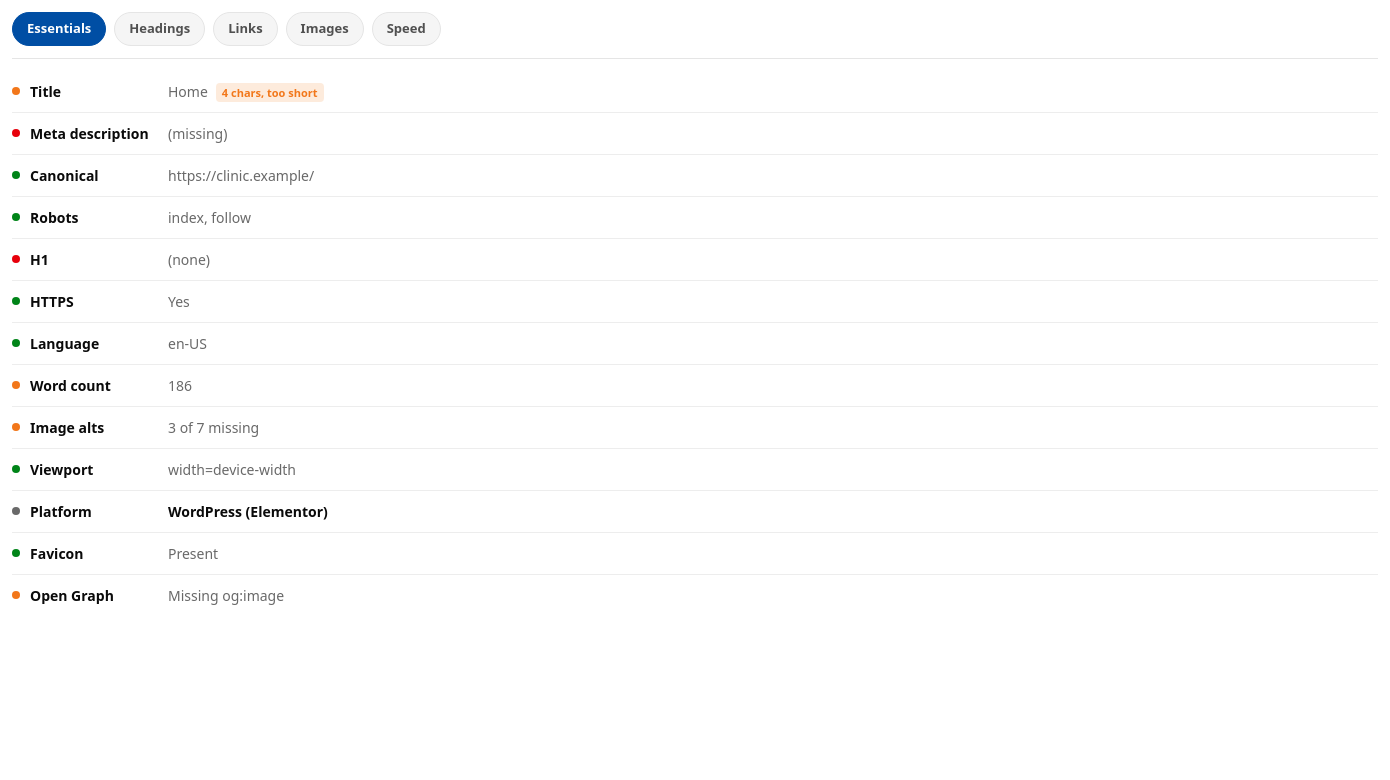
it: On-Page speed › shows scores and plain-language vitals, and handles missing values
The image size is (1390, 780).
Click the button "Speed" at x=406, y=29, box [372,12,441,46]
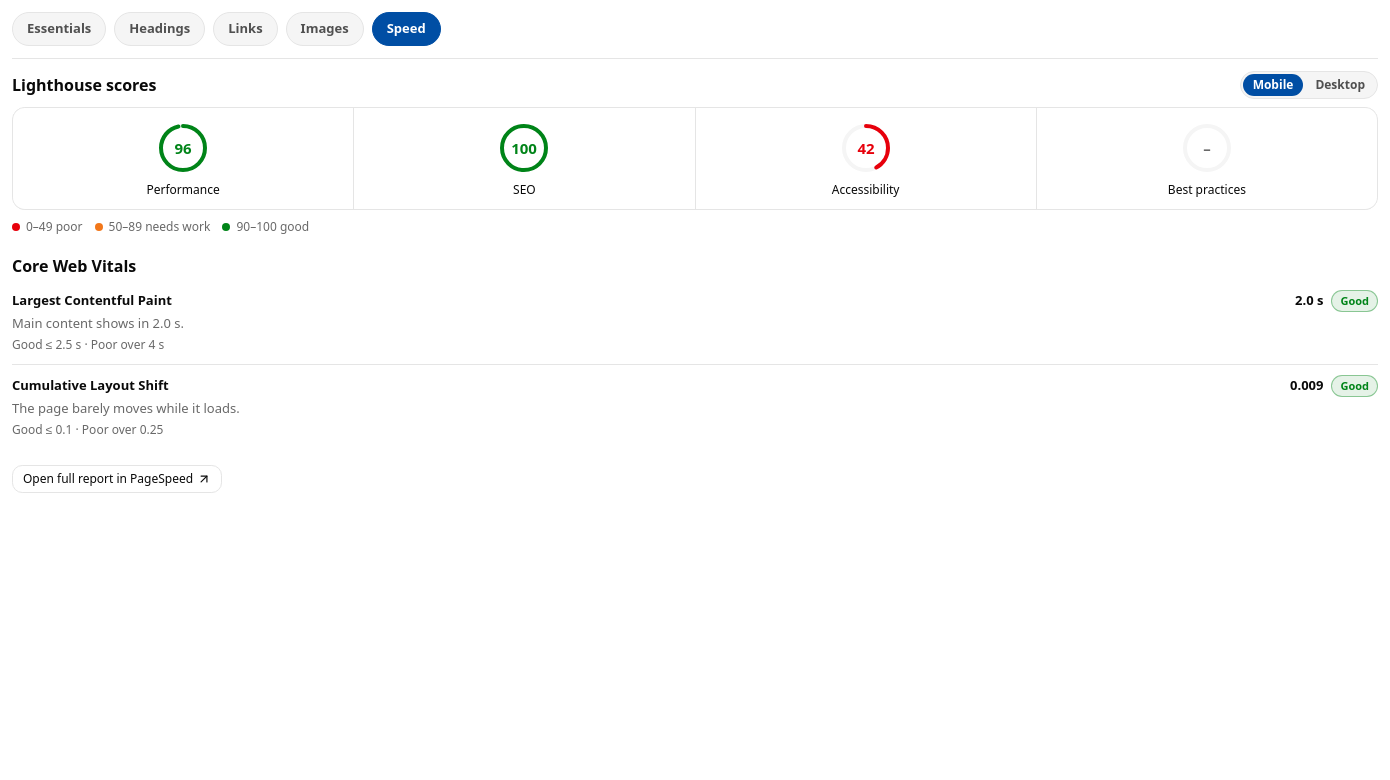
Expected: the picture named "Performance 96, good" is shown, [13,108,353,208]
Expected: the picture named "Accessibility 42, poor" is shown, [696,108,1036,208]
Expected: the picture named "Best practices not measured" is shown, [1037,108,1377,208]
